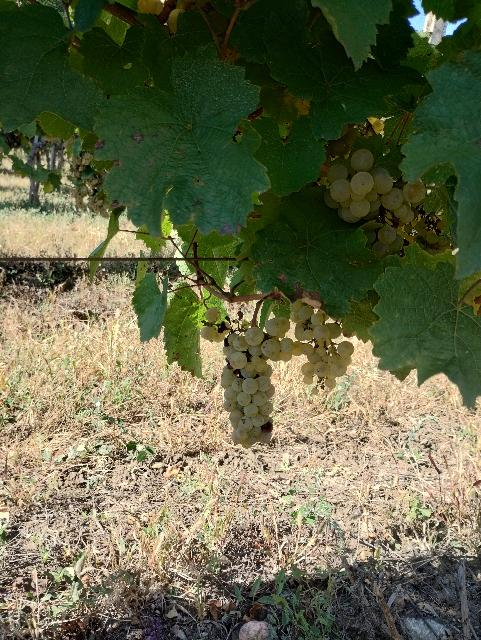grapes: (201, 310, 294, 449), (290, 300, 355, 394)
